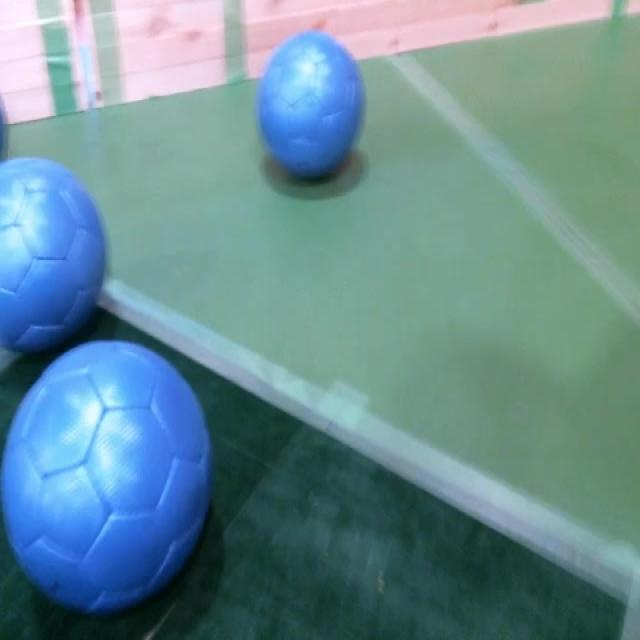blue_ball: (0, 341, 212, 616), (0, 155, 110, 354), (256, 33, 368, 183)
